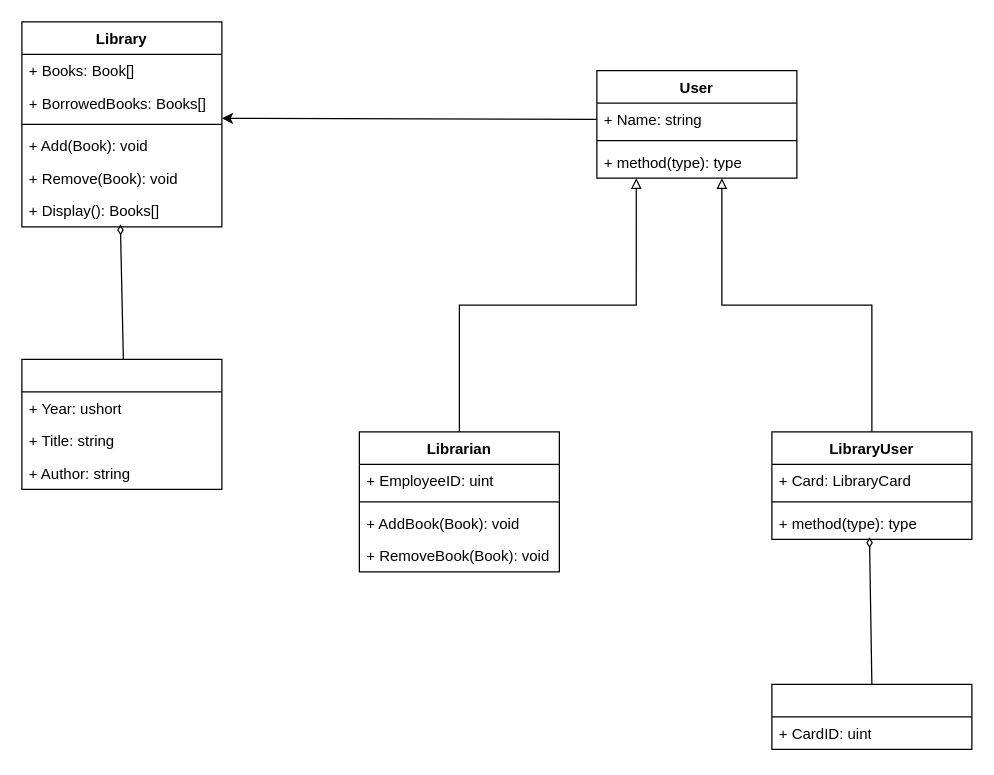
Image size: 994x775. Some labels were removed from this diagram. The box of each missing label's shape, as (x1, y1, x2, y2) in pixels:
Book: (21, 358, 222, 489)
LibraryCard: (771, 683, 972, 749)
